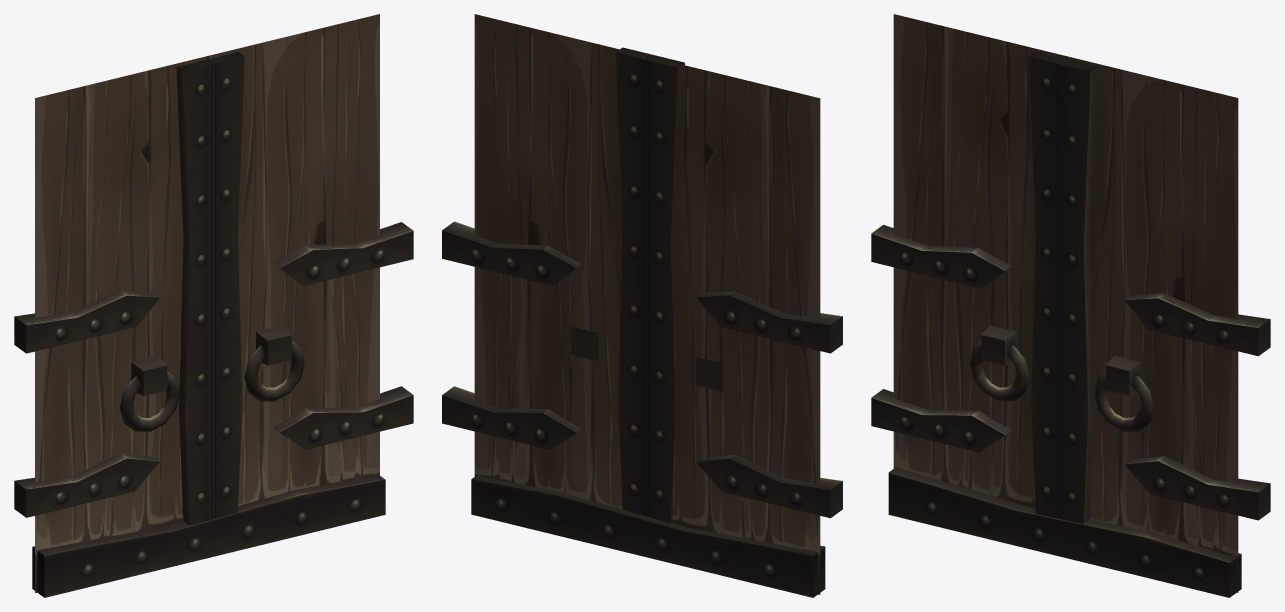
Rendered from Dg_01_door_02.FBX.
The picture shows the model from 3 angles, left to right: view 1: azimuth 30°, elevation 25°; view 2: azimuth 150°, elevation 25°; view 3: azimuth 330°, elevation 25°; orthographic projection.
Visible parts, largest first — view 1: Dg_01_door_02; view 2: Dg_01_door_02; view 3: Dg_01_door_02.
Boxes of the visible parts, <box> form: Dg_01_door_02: <box>14,14,413,597</box>; Dg_01_door_02: <box>442,14,842,597</box>; Dg_01_door_02: <box>871,14,1270,597</box>.
Size of the model in its own units: 3.44 by 4.21 by 0.2446.
